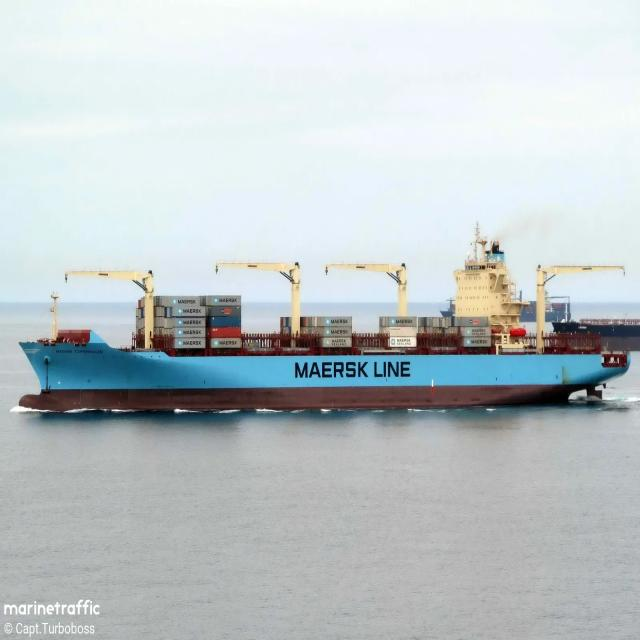Cargo: (13, 227, 630, 411)
